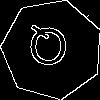Q: (27, 24, 69, 75)
